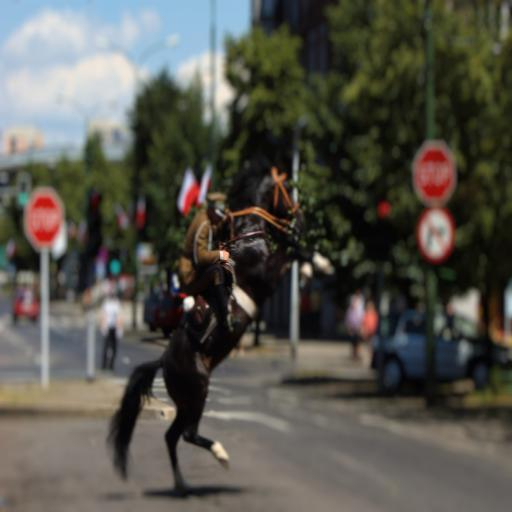Horse: (105, 152, 336, 499)
